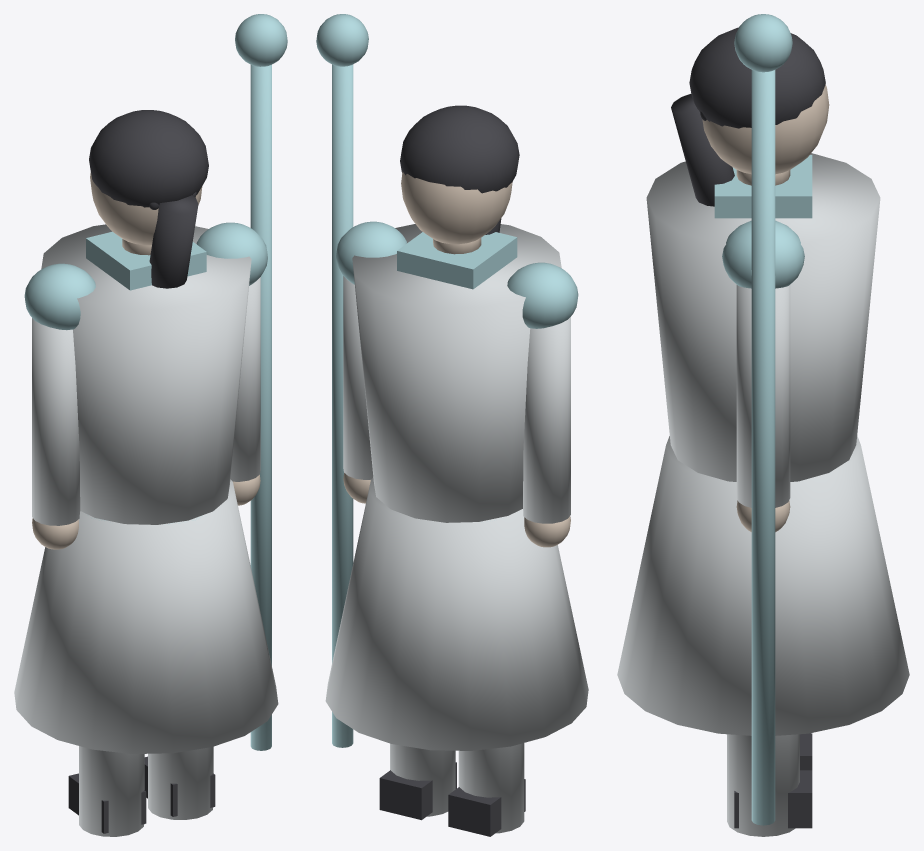
The model's file is su-yueli.glb.
The picture shows the model from 3 angles, left to right: view 1: azimuth 30°, elevation 25°; view 2: azimuth 150°, elevation 25°; view 3: azimuth 270°, elevation 25°; orthographic projection. The views are drawn at different scales.
Parts seen in each view (by area): view 1: su-yueli_robe, su-yueli_torso, su-yueli_staff, su-yueli_hair, su-yueli_arm-0.235, su-yueli_leg-0.09, su-yueli_arm0.235, su-yueli_leg0.09, su-yueli_shoulder-0.22, su-yueli_pigtail, su-yueli_collar, su-yueli_shoulder0.22 (+6 smaller); view 2: su-yueli_robe, su-yueli_torso, su-yueli_staff, su-yueli_arm-0.235, su-yueli_hair, su-yueli_head, su-yueli_collar, su-yueli_arm0.235, su-yueli_leg-0.09, su-yueli_shoulder-0.22, su-yueli_leg0.09, su-yueli_shoulder0.22 (+5 smaller); view 3: su-yueli_robe, su-yueli_torso, su-yueli_staff, su-yueli_hair, su-yueli_arm0.235, su-yueli_leg0.09, su-yueli_head, su-yueli_collar, su-yueli_pigtail, su-yueli_shoulder0.22, su-yueli_orb, su-yueli_boot0.09 (+1 smaller).
Boxes of the visible parts, left/top/right/bottom form: su-yueli_robe: left=14, top=479, right=278, bottom=753; su-yueli_torso: left=41, top=224, right=251, bottom=524; su-yueli_staff: left=250, top=65, right=271, bottom=750; su-yueli_hair: left=89, top=110, right=208, bottom=207; su-yueli_arm-0.235: left=32, top=318, right=80, bottom=525; su-yueli_leg-0.09: left=79, top=746, right=144, bottom=836; su-yueli_arm0.235: left=230, top=277, right=260, bottom=481; su-yueli_leg0.09: left=148, top=746, right=213, bottom=819; su-yueli_shoulder-0.22: left=24, top=263, right=95, bottom=330; su-yueli_pigtail: left=149, top=195, right=198, bottom=288; su-yueli_collar: left=86, top=231, right=206, bottom=290; su-yueli_shoulder0.22: left=196, top=222, right=267, bottom=285; su-yueli_robe: left=325, top=478, right=588, bottom=750; su-yueli_torso: left=352, top=224, right=561, bottom=522; su-yueli_staff: left=332, top=64, right=353, bottom=747; su-yueli_arm-0.235: left=523, top=317, right=570, bottom=523; su-yueli_hair: left=400, top=105, right=519, bottom=193; su-yueli_head: left=401, top=171, right=512, bottom=244; su-yueli_collar: left=397, top=232, right=517, bottom=289; su-yueli_arm0.235: left=343, top=276, right=373, bottom=479; su-yueli_leg-0.09: left=458, top=743, right=524, bottom=833; su-yueli_shoulder-0.22: left=507, top=262, right=578, bottom=328; su-yueli_leg0.09: left=390, top=743, right=455, bottom=816; su-yueli_shoulder0.22: left=336, top=221, right=406, bottom=284; su-yueli_robe: left=617, top=436, right=909, bottom=735; su-yueli_torso: left=646, top=153, right=880, bottom=481; su-yueli_staff: left=751, top=70, right=775, bottom=825; su-yueli_hair: left=689, top=27, right=825, bottom=128; su-yueli_arm0.235: left=736, top=285, right=790, bottom=507; su-yueli_leg0.09: left=727, top=734, right=799, bottom=836; su-yueli_head: left=702, top=85, right=829, bottom=174; su-yueli_collar: left=714, top=155, right=812, bottom=218; su-yueli_pigtail: left=671, top=94, right=734, bottom=206; su-yueli_shoulder0.22: left=722, top=220, right=804, bottom=288; su-yueli_orb: left=734, top=14, right=792, bottom=72; su-yueli_boot0.09: left=734, top=770, right=812, bottom=828.
Bounding box in the file's own units: 0.665 × 1.92 × 0.6.
